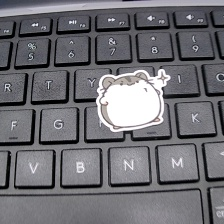mouse: (93, 66, 173, 134)
